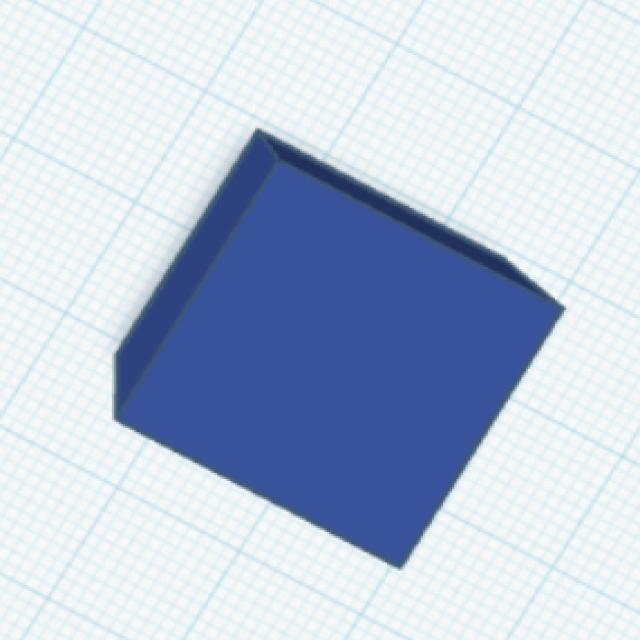cube: (110, 123, 570, 573)
